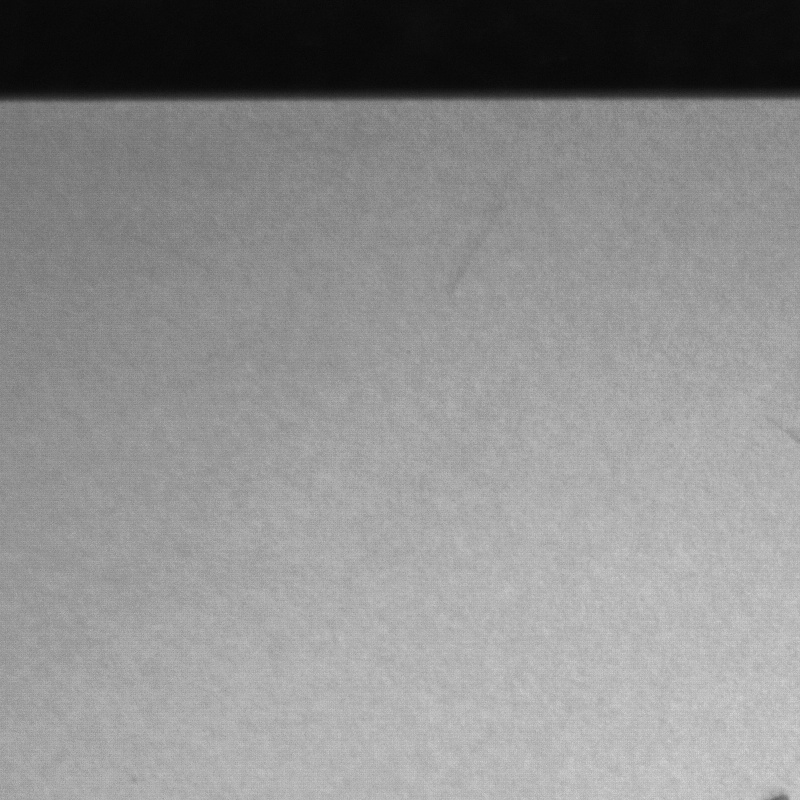defect: (443, 196, 503, 297), (768, 409, 800, 440), (763, 786, 794, 800)
